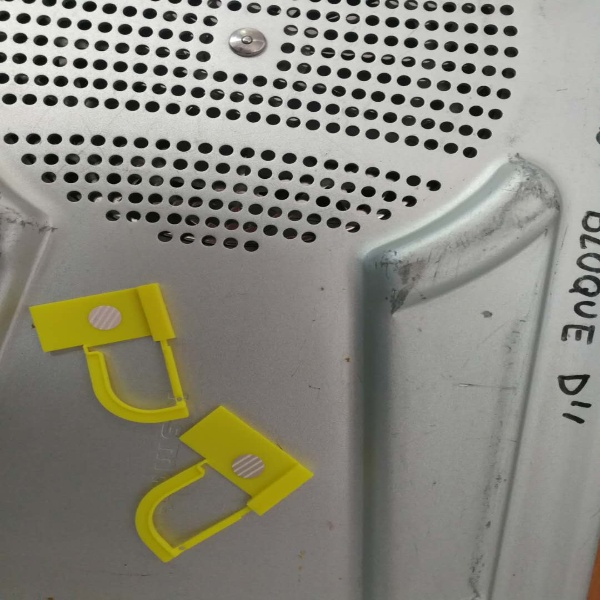empty_filter: (0, 0, 534, 258)
lock: (132, 395, 315, 567), (22, 279, 192, 426)
